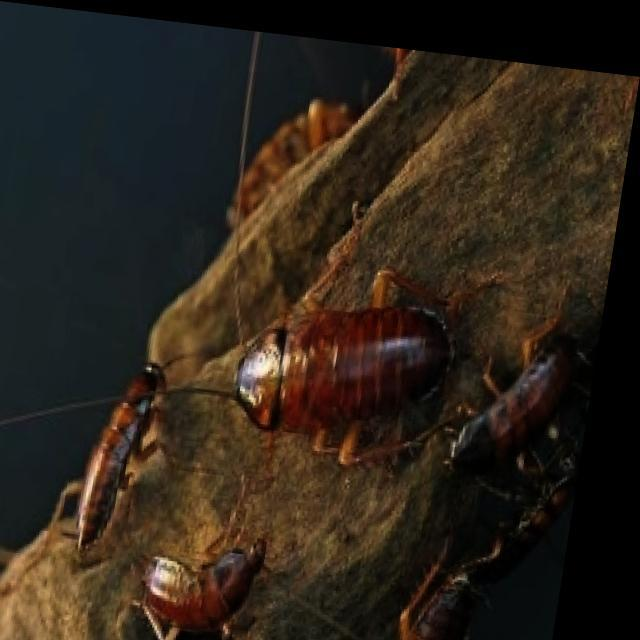cockroach: (214, 273, 487, 475), (51, 303, 238, 566), (437, 298, 625, 510), (108, 489, 318, 640)
